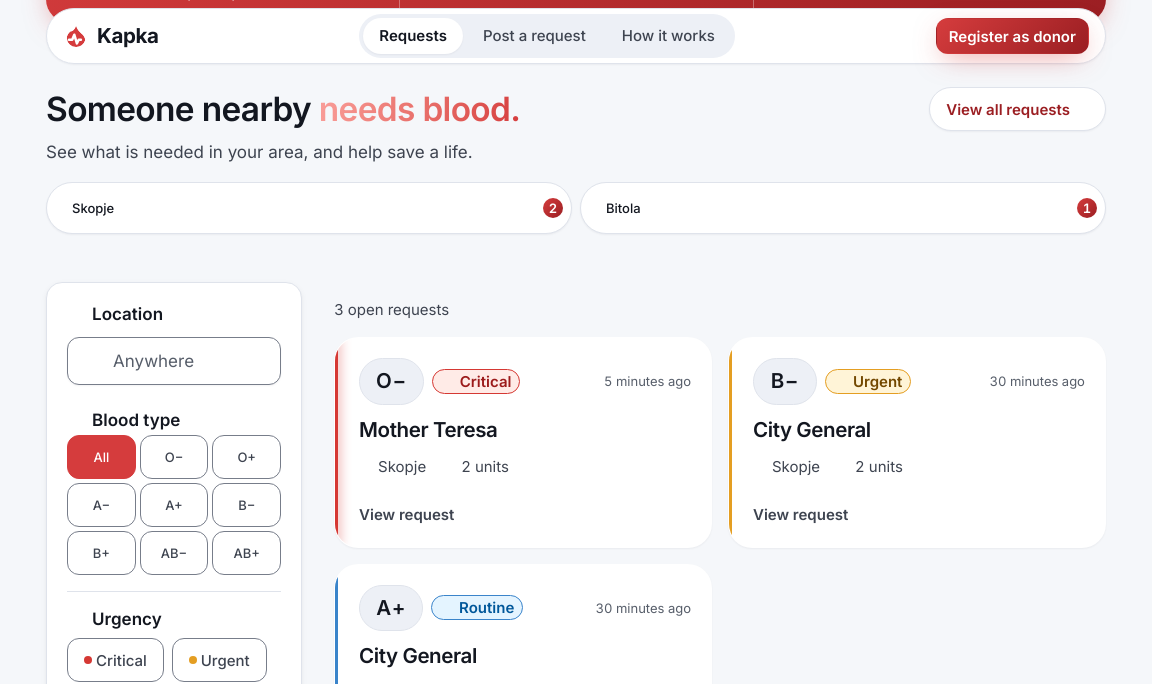
Test: the public feed › filters by city
(page scrolled)
expect the text "3 open requests" is shown: met, box [334,300,449,319]
Click the dropdown named "Location" at point(174, 361), box [67,337,281,385]
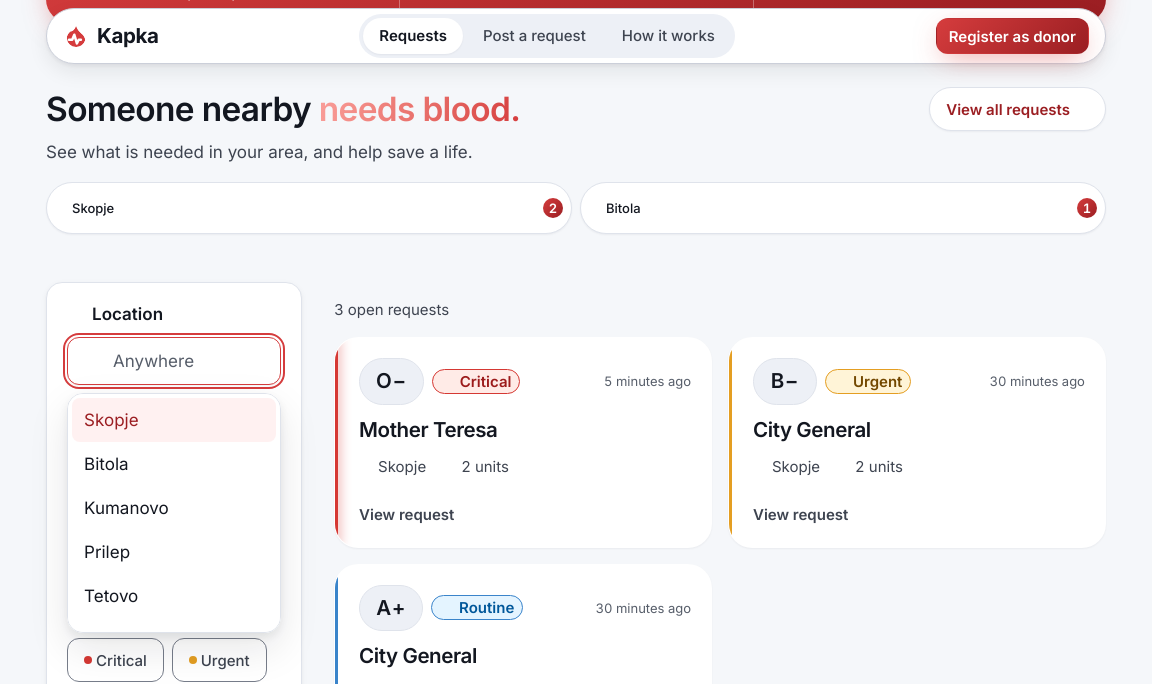
Click the option "Bitola" at point(106, 464), box [84,454,129,474]
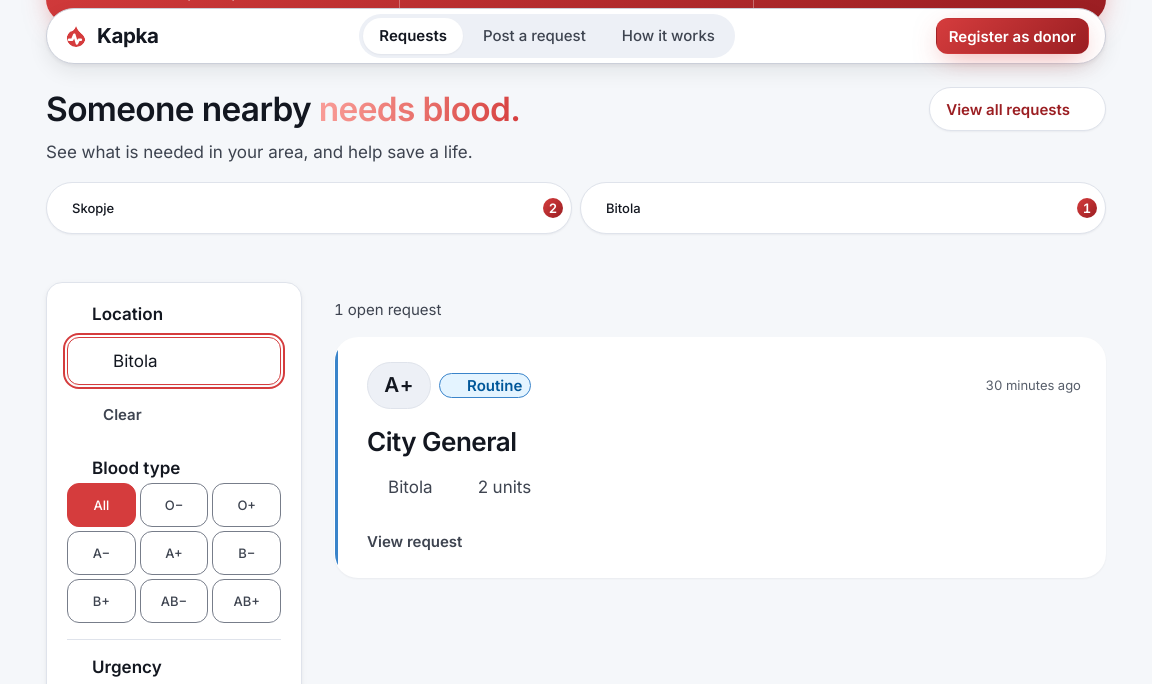
expect the text "1 open request" is shown: met, box [334,300,441,319]
expect the link "Mother Teresa" is gone: met
